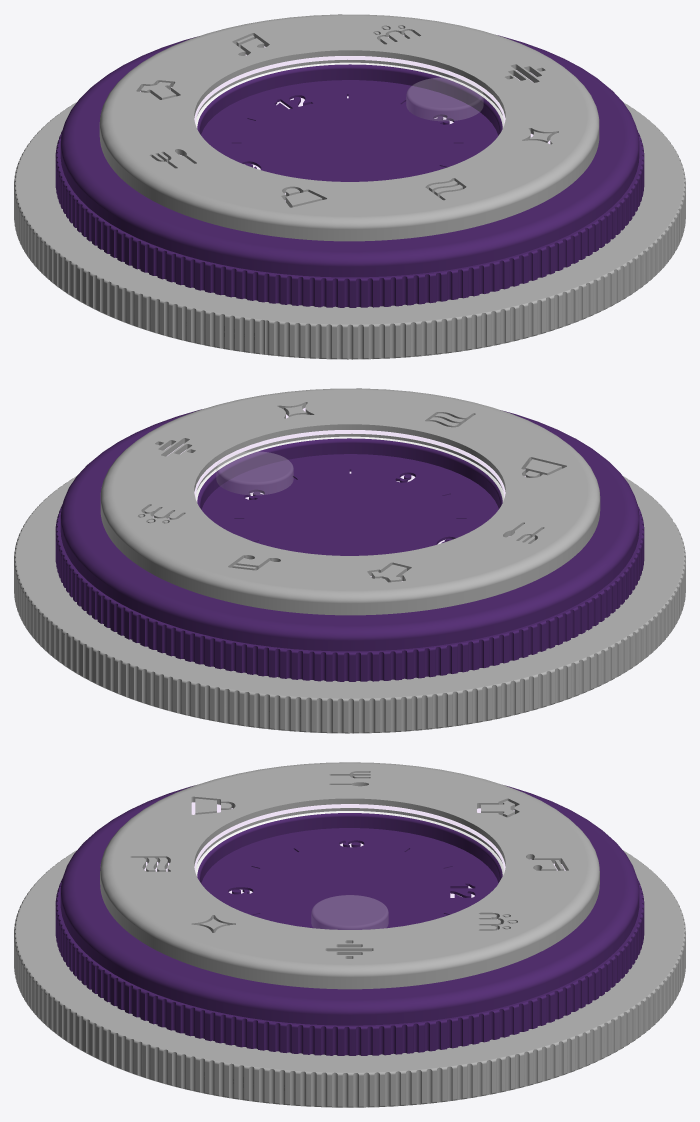
3 views of the same model, one above another, from view 1: azimuth 30°, elevation 25°; view 2: azimuth 150°, elevation 25°; view 3: azimuth 270°, elevation 25° (orthographic).
Bounding box in the file's own units: 0.0492 × 0.0089 × 0.0492.
